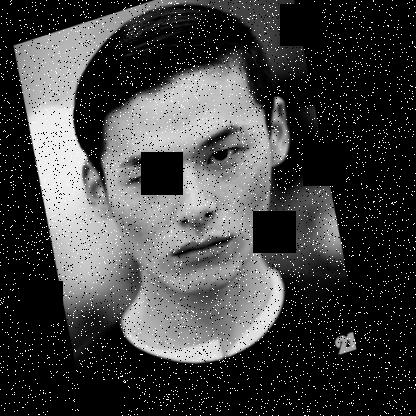Male: (57, 44, 336, 327)
